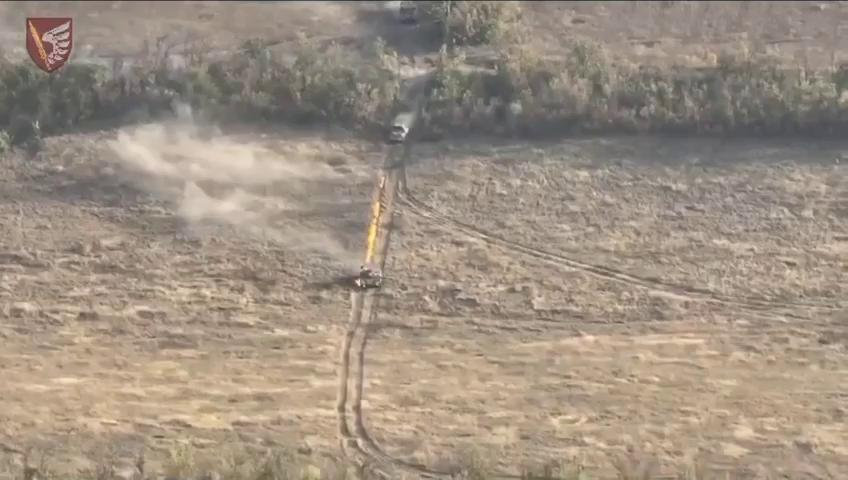tank: (359, 258, 385, 292), (390, 117, 412, 145), (397, 1, 419, 25)
